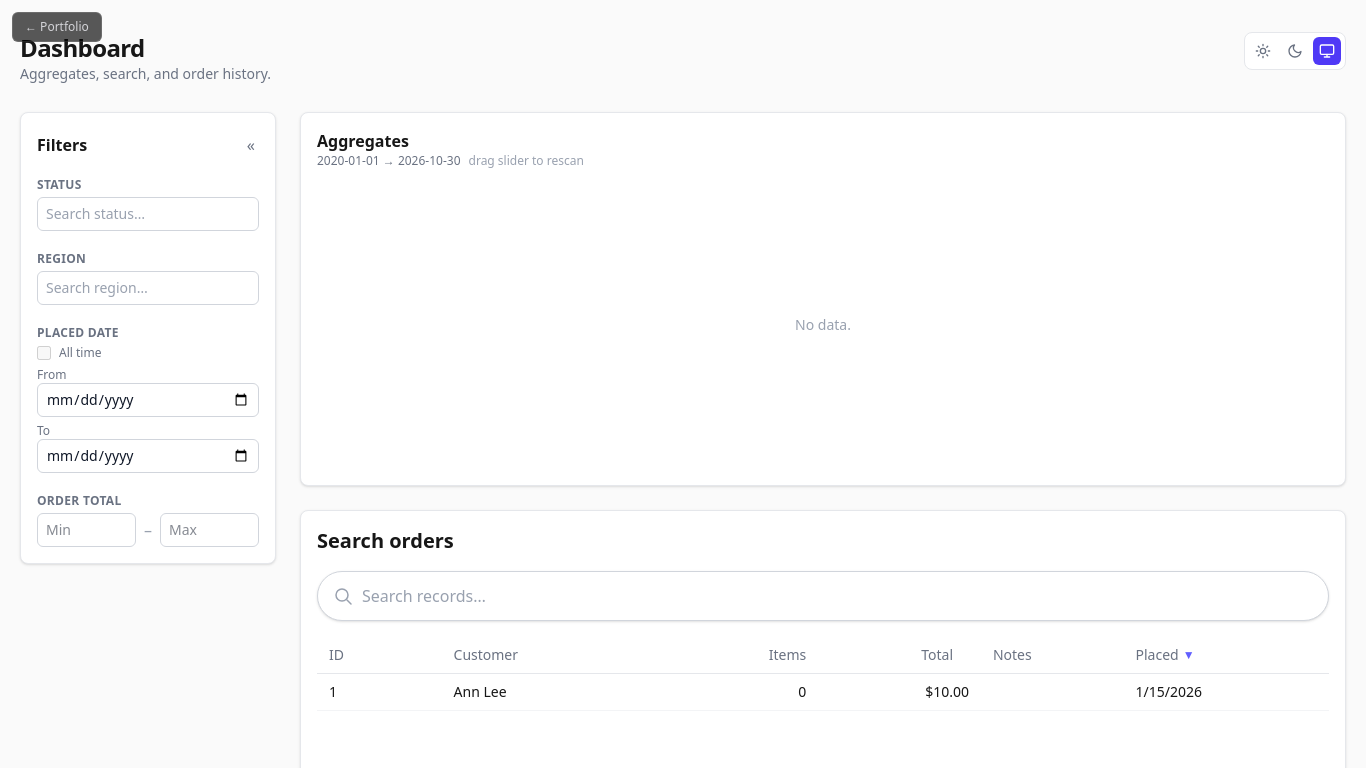
Scenario: App › merges regions from /api/regions and from fetched order rows
Expected: the row with test id "search-result" is shown, [317, 674, 1329, 710]
Click the dropdown with test id "filter-region-search": point(148, 288) [37, 271, 259, 305]
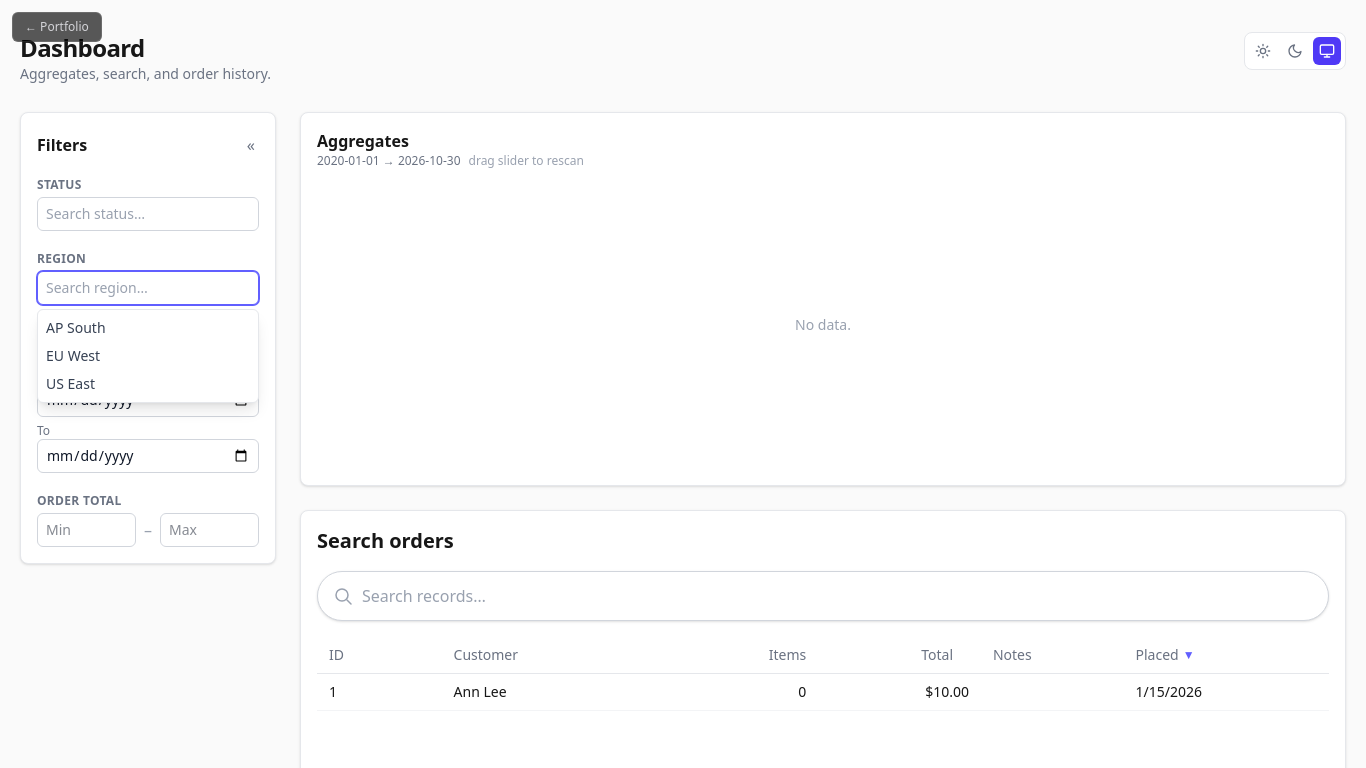
Now the option with test id "filter-region-US-E" reads "US East", box [38, 370, 258, 398]
Now the option with test id "filter-region-EU-W" reads "EU West", box [38, 342, 258, 370]
Now the option with test id "filter-region-AP-S" reads "AP South", box [38, 314, 258, 342]
